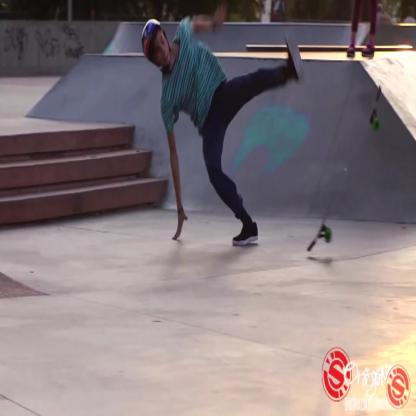Fall_Down: (140, 5, 307, 250)
